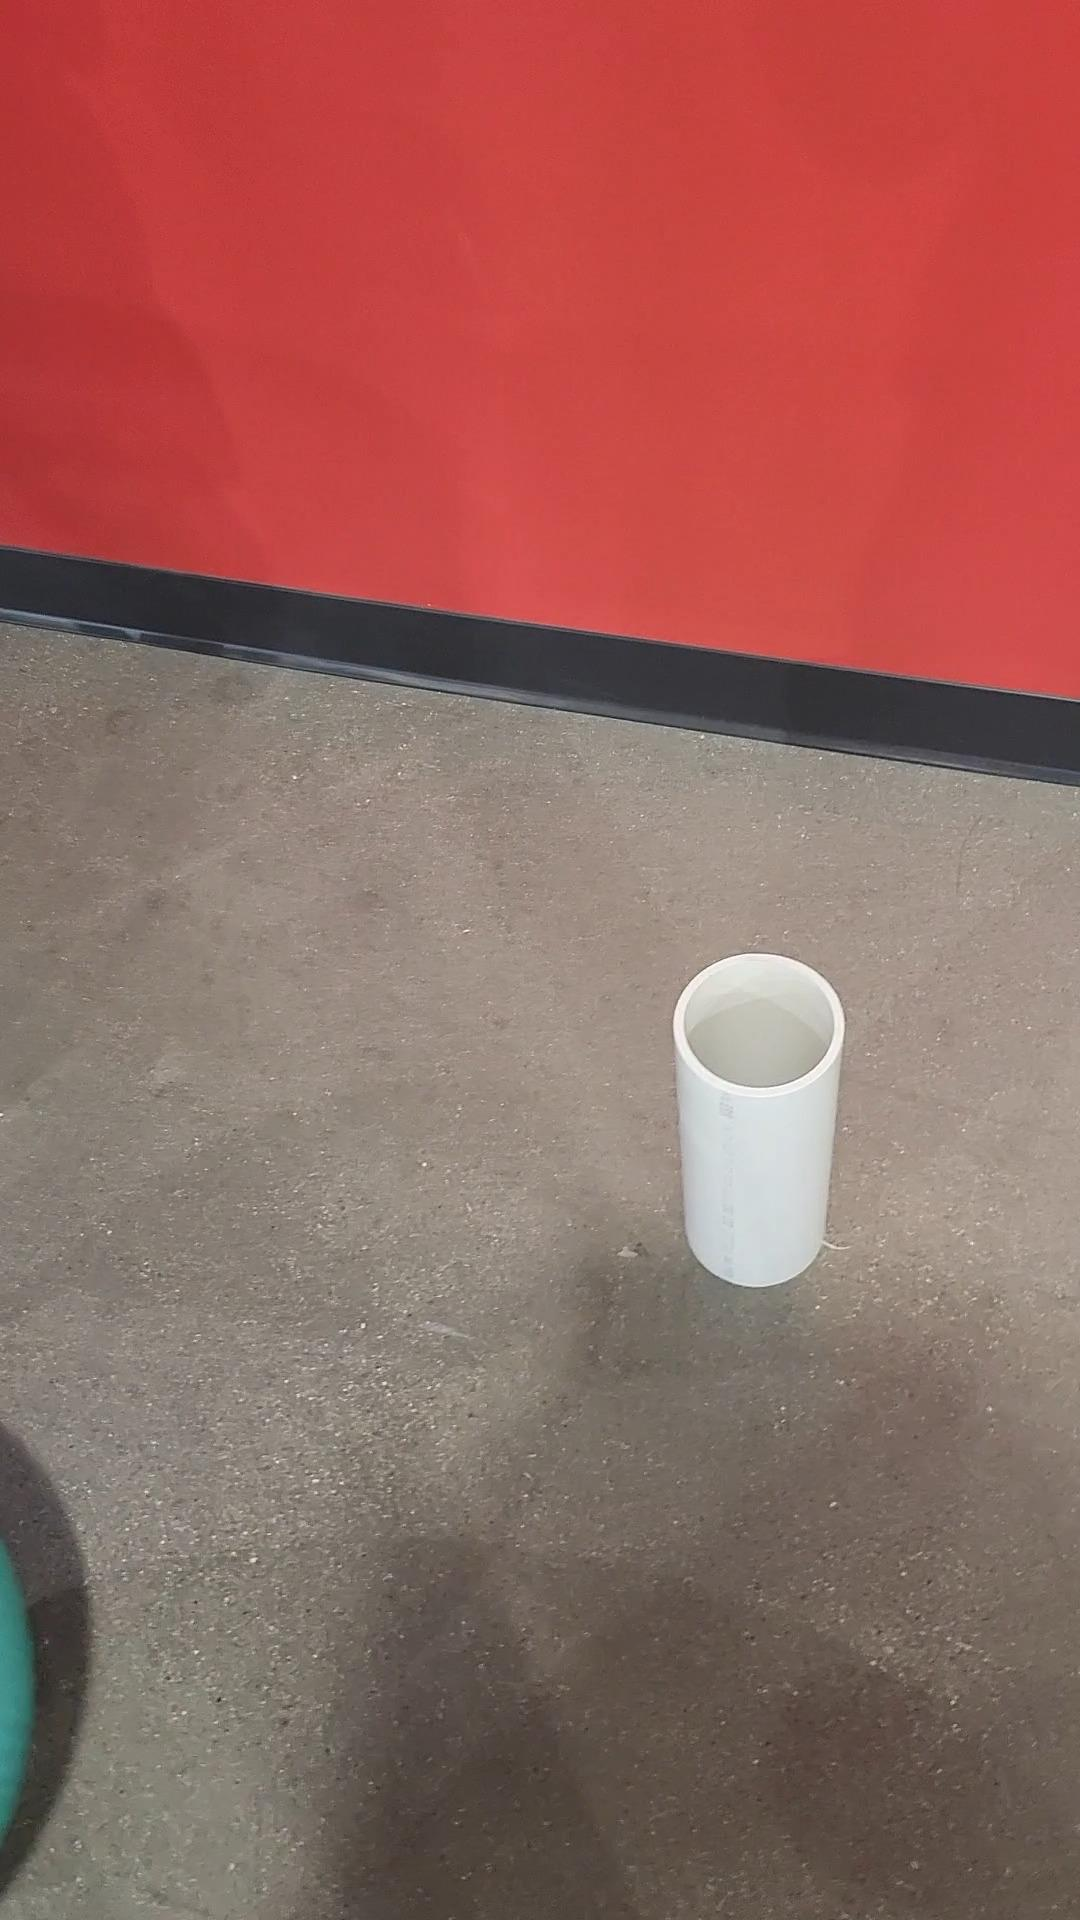algae: (0, 1539, 41, 1826)
coral: (667, 945, 848, 1294)
